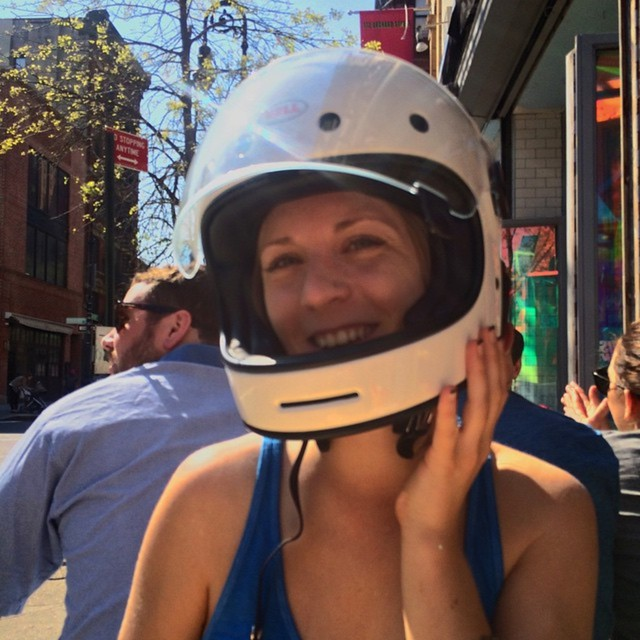helmet: (174, 73, 512, 397)
